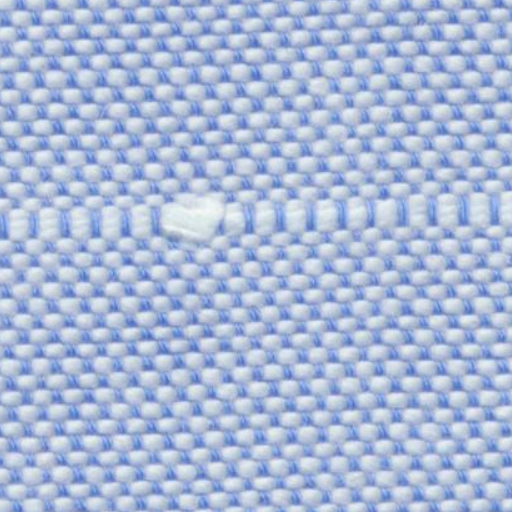MianQiu: (145, 171, 236, 262)
